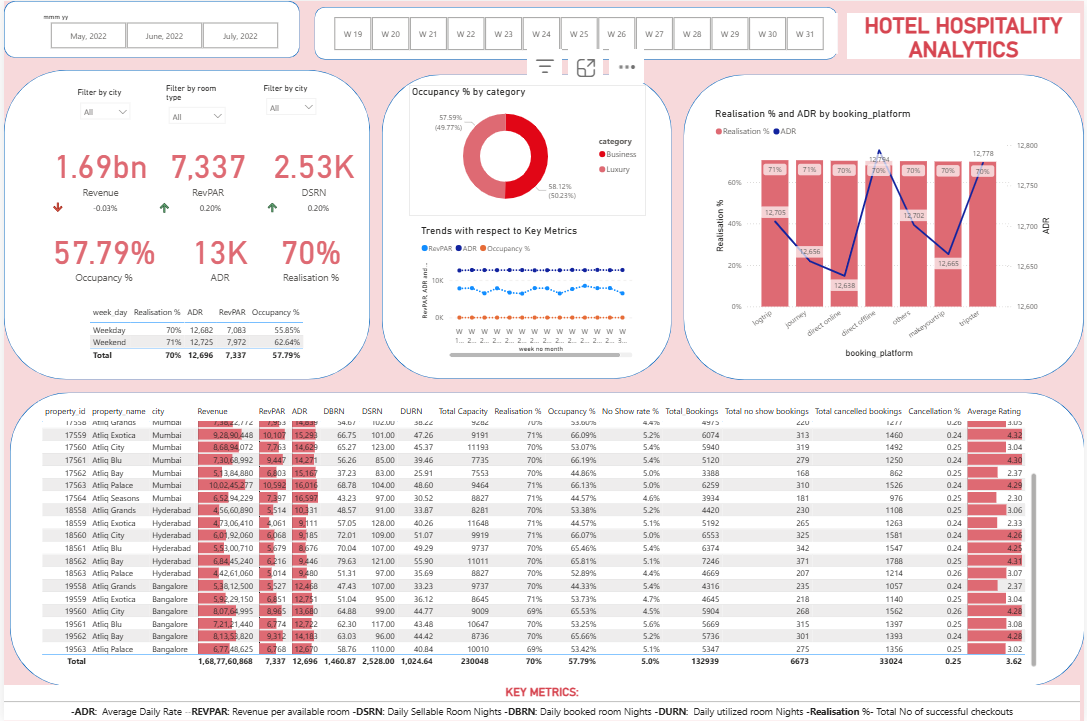

Layout of this report page (visuals, bound fields, positions):
{"tool":"powerbi","page":{"name":"Dashboard","canvas":[1800,1200],"ordinal":2},"visuals":[{"type":"shape","box":[630,122.9,482.9,507.1],"z":0},{"type":"shape","box":[1132.7,122.9,667.3,509.3],"z":1000},{"type":"shape","box":[8.8,652,1791.3,489.5],"z":2000},{"type":"shape","box":[518.1,8.8,871.5,87.8],"z":3000},{"type":"shape","box":[0,0,492.9,94.8],"z":4000},{"type":"shape","box":[0,114.1,610.3,515.9],"z":5000},{"type":"tableEx","fields":{"Values":["key_measures.Realisation WoW change %"]},"box":[71,300.2,183.2,90.9],"z":6000},{"type":"tableEx","fields":{"Values":["dim_hotels.property_id","dim_hotels.property_name","dim_hotels.city","key_measures (2).Revenue","key_measures.RevPAR","key_measures (2).ADR","key_measures.DBRN","key_measures.DSRN","key_measures.DURN","key_measures (2).Total Capacity","key_measures.Realisation %","key_measures (2).Occupancy %"]},"box":[58,667.2,1668.2,446.8],"z":7000},{"type":"slicer","title":"Filter by city","fields":{"Values":["dim_hotels.city"]},"box":[116.5,146.2,102.9,75.8],"z":8000},{"type":"slicer","title":"Filter by room type","fields":{"Values":["dim_rooms.room_class"]},"box":[265.4,138.1,113.7,84],"z":9000},{"type":"slicer","title":"Filter by city","fields":{"Values":["dim_hotels.city"]},"box":[427.9,138.1,102.9,78.5],"z":10000},{"type":"slicer","fields":{"Values":["dim_date.mmm yy"]},"box":[51.5,16.2,427.9,70.4],"z":11000},{"type":"slicer","fields":{"Values":["dim_date.week no"]},"box":[524.6,19.8,864.9,68.1],"z":12000},{"type":"card","fields":{"Values":["key_measures.Revenue"]},"box":[66.5,223,186.2,113.6],"z":13000},{"type":"lineChart","title":"Trends with respect to Key Metrics","fields":{"Y":["key_measures.RevPAR","key_measures.ADR","key_measures.Occupancy %"],"Category":["dim_date.week no","dim_date.month"]},"box":[689.3,373.2,362.2,226.1],"z":14000},{"type":"tableEx","fields":{"Values":["key_measures.Revenue WoW change %"]},"box":[246.6,282,178.7,127.2],"z":15000},{"type":"card","fields":{"Values":["key_measures.RevPAR"]},"box":[252.7,223,174.1,113.6],"z":16000},{"type":"card","fields":{"Values":["key_measures.Occupancy %"]},"box":[71,357.8,192.3,128.7],"z":17000},{"type":"card","fields":{"Values":["key_measures.ADR"]},"box":[263.3,357.8,193.8,128.7],"z":18000},{"type":"lineStackedColumnComboChart","fields":{"Y":["key_measures.Realisation %"],"Category":["fact_bookings.booking_platform"],"Y2":["key_measures.ADR"]},"box":[1178.8,177.8,568.5,421.5],"z":19000},{"type":"donutChart","fields":{"Category":["dim_hotels.category"],"Y":["key_measures.Occupancy %"]},"box":[673.9,140.5,395.1,217.3],"z":20000},{"type":"tableEx","fields":{"Values":["key_measures.Revenue WoW change %"]},"box":[427,299.9,180,127.3],"z":21000},{"type":"tableEx","fields":{"Values":["dim_date.week_day","key_measures.Realisation %","key_measures.ADR","key_measures.RevPAR","key_measures.Occupancy %"]},"box":[136.3,503.7,373.7,113.7],"z":22000},{"type":"card","fields":{"Values":["key_measures.DSRN"]},"box":[424.8,223.1,182.2,114.1],"z":23000},{"type":"card","fields":{"Values":["key_measures.Realisation %"]},"box":[414.7,357.8,192.3,128.7],"z":24000},{"type":"textbox","title":"HOTEL HOSPITALITY ANALYTICS","box":[1404.9,19.8,388.5,76.8],"z":25001},{"type":"textbox","title":"KEY METRICS:","box":[0,1140.9,1793.2,59.1],"z":25002}]}

Visuals, with their boxes in screenshot pixels (x1, y1, x2, y2), scaled from the page's 1800x1200 canvas onto the 1087x721 screenshot:
shape: 380 74 672 379
shape: 684 74 1086 380
shape: 5 392 1086 686
shape: 313 5 839 58
shape: 0 0 298 57
shape: 0 69 369 379
tableEx - key_measures.Realisation WoW change %: 43 180 154 235
tableEx - dim_hotels.property_id x dim_hotels.property_name: 35 401 1042 669
"Filter by city" slicer: 70 88 132 133
"Filter by room type" slicer: 160 83 229 133
"Filter by city" slicer: 258 83 321 130
slicer - dim_date.mmm yy: 31 10 290 52
slicer - dim_date.week no: 317 12 839 53
card - key_measures.Revenue: 40 134 153 202
"Trends with respect to Key Metrics" lineChart: 416 224 635 360
tableEx - key_measures.Revenue WoW change %: 149 169 257 246
card - key_measures.RevPAR: 153 134 258 202
card - key_measures.Occupancy %: 43 215 159 292
card - key_measures.ADR: 159 215 276 292
lineStackedColumnComboChart - key_measures.Realisation % x fact_bookings.booking_platform: 712 107 1055 360
donutChart - dim_hotels.category x key_measures.Occupancy %: 407 84 646 215
tableEx - key_measures.Revenue WoW change %: 258 180 367 257
tableEx - dim_date.week_day x key_measures.Realisation %: 82 303 308 371
card - key_measures.DSRN: 257 134 367 203
card - key_measures.Realisation %: 250 215 367 292
"HOTEL HOSPITALITY ANALYTICS" textbox: 848 12 1083 58
"KEY METRICS:" textbox: 0 685 1083 720
